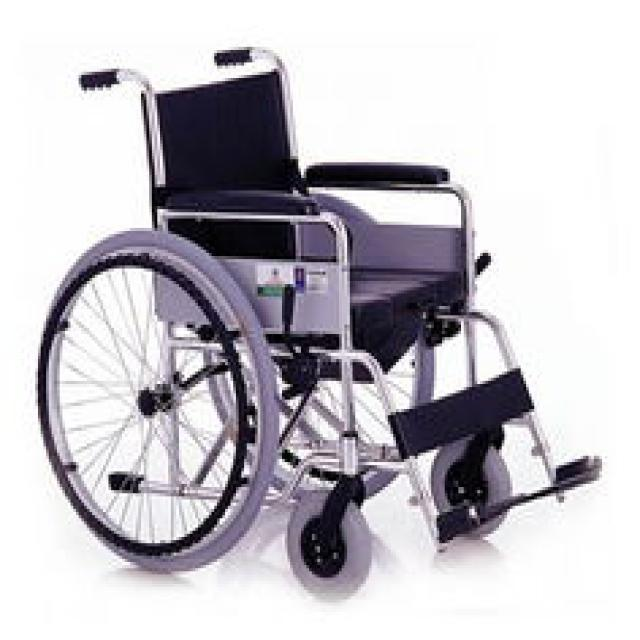wheelchair: (27, 40, 610, 602)
